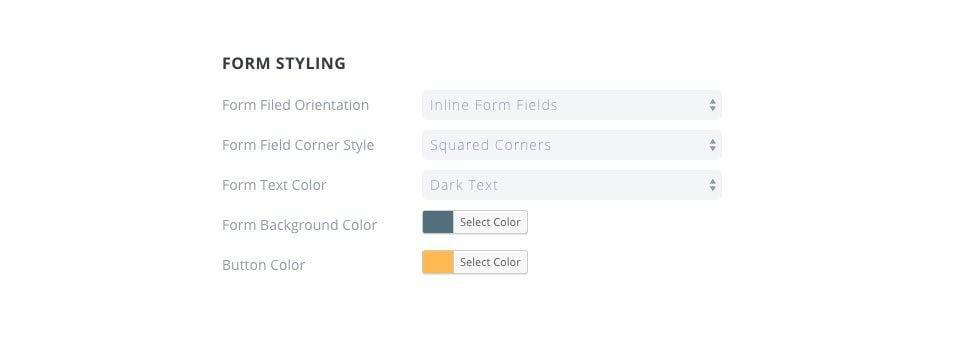button: (455, 211, 529, 237), (456, 250, 528, 275)
dropdown: (423, 88, 724, 122), (421, 171, 724, 202), (422, 129, 725, 159)
label: (221, 135, 378, 157), (222, 216, 380, 236), (219, 97, 373, 115), (221, 177, 330, 195), (220, 258, 307, 274)
